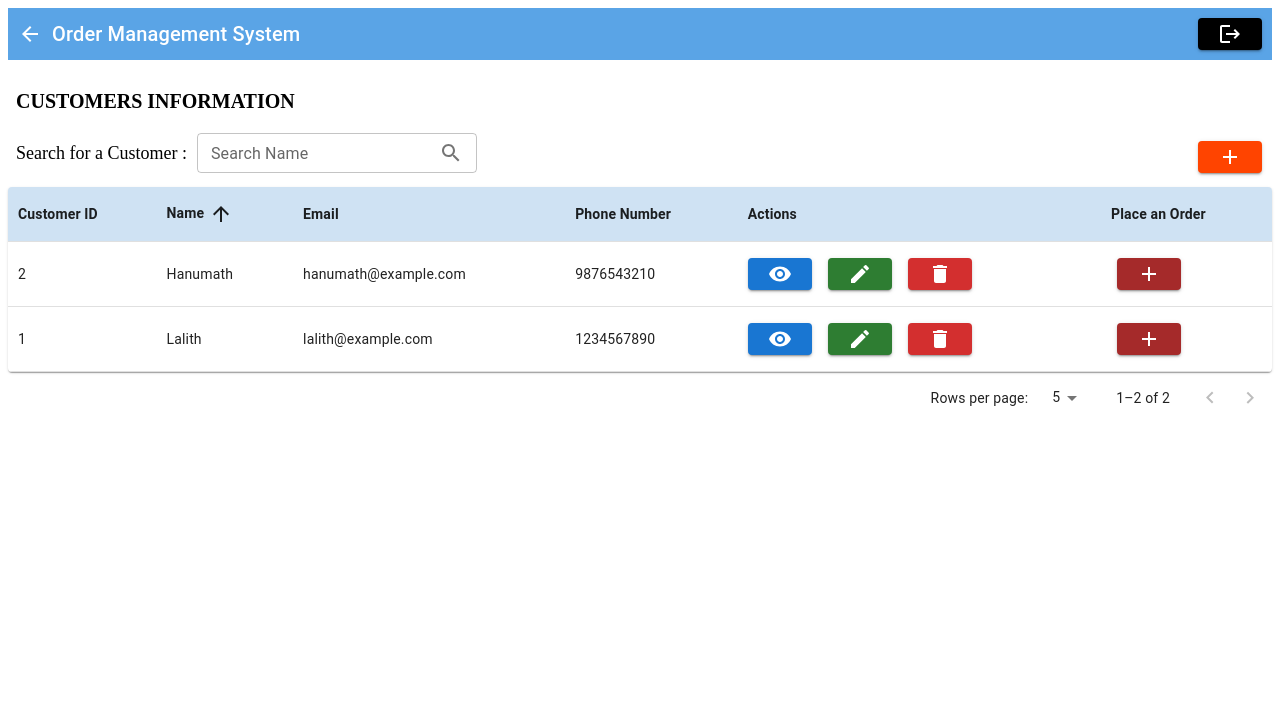
Test case: Customer Component › displays a confirmation dialog when deleting a customer
Expected: the text "Hanumath" is shown, [157,242,293,306]
Click the button with test id "deleteicon-2" at (940, 274), box [908,258,972,290]
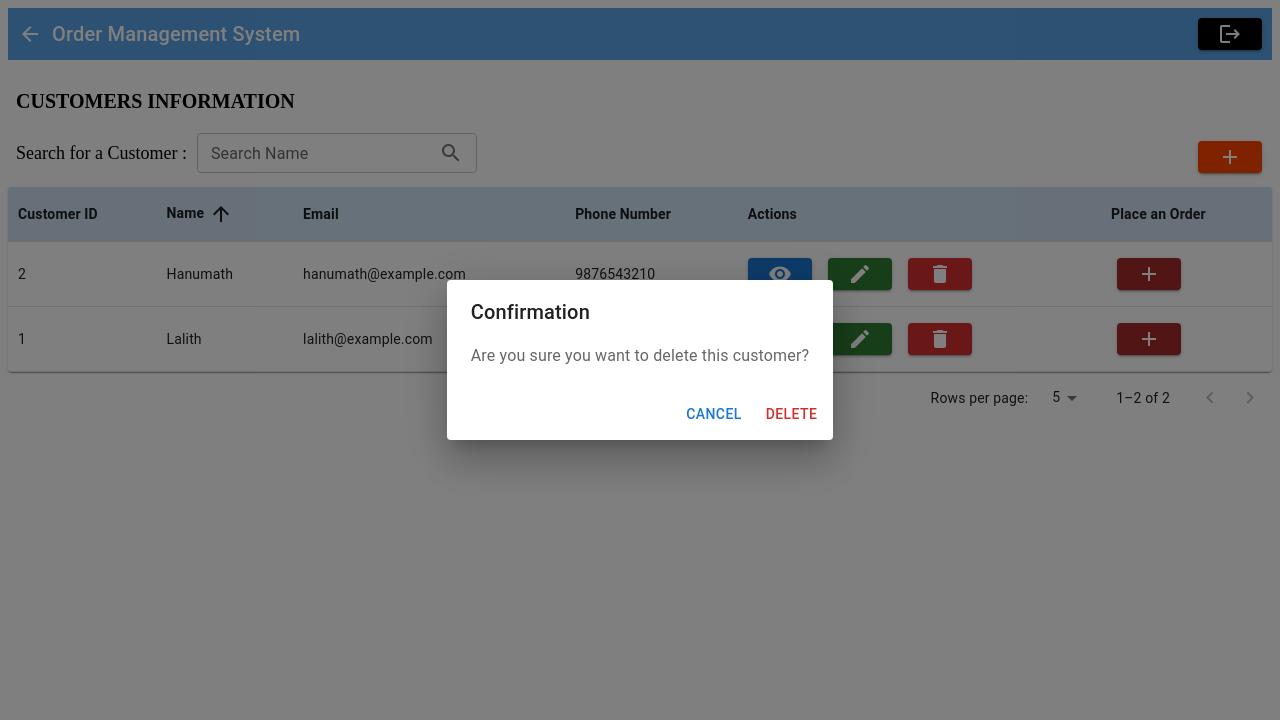
Expected: the heading "Confirmation" is shown, [471,300,590,324]
Expected: the text "Are you sure you want to delete this customer?" is shown, [471,344,809,368]
